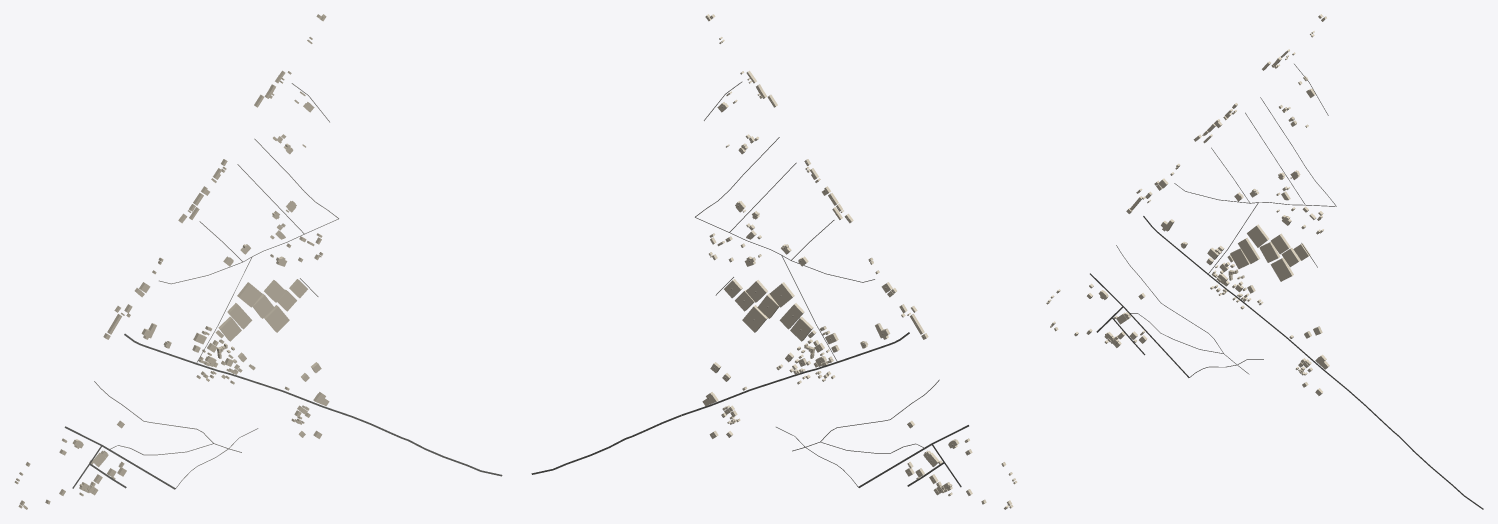
File: historic-palestine-02_20_3435_3144.glb
3 views of the same model, side by side, from view 1: azimuth 30°, elevation 25°; view 2: azimuth 150°, elevation 25°; view 3: azimuth 330°, elevation 25° (orthographic). The views are drawn at different scales.
Parts seen in each view (by area): view 1: Road Jenin Street; view 2: Road Jenin Street; view 3: Road Jenin Street.
Boxes of the visible parts, box(x1,y1,x2,y2) form: Road Jenin Street: box(124, 333, 502, 476); Road Jenin Street: box(531, 332, 909, 474); Road Jenin Street: box(1143, 216, 1483, 509).
Size of the model in its own units: 1029 by 1022 by 9.09.
